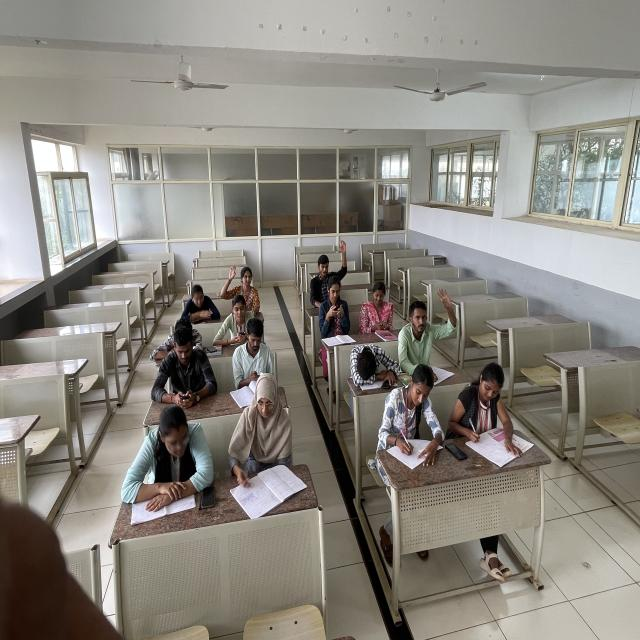Hand Rising: (399, 286, 460, 364), (307, 240, 348, 299), (221, 264, 263, 308)
Reading: (114, 404, 201, 523)
Sleeping: (147, 316, 204, 359), (348, 341, 399, 384)
Using Phone: (150, 328, 216, 404), (215, 294, 253, 346), (317, 276, 349, 331), (361, 282, 396, 332)
Writing: (229, 376, 303, 499), (451, 360, 528, 452), (378, 363, 444, 461)
